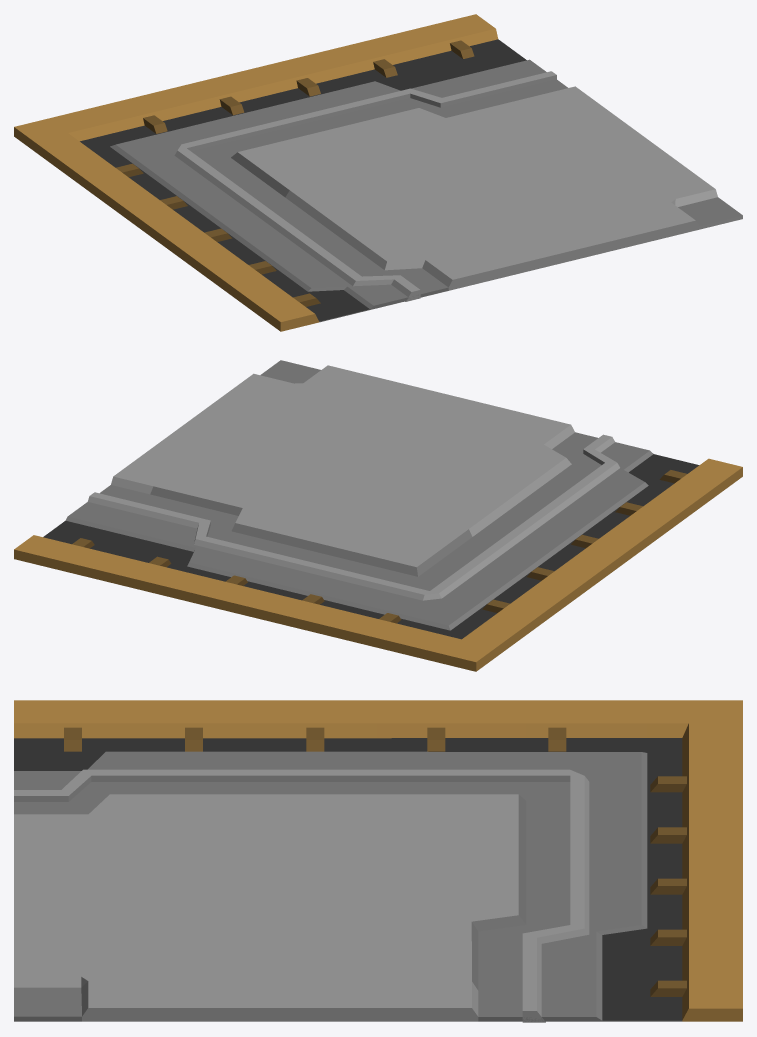
The model's file is FloorTile_Corner.glb.
3 views of the same model, one above another, from view 1: azimuth 30°, elevation 25°; view 2: azimuth 150°, elevation 25°; view 3: azimuth 270°, elevation 25° (orthographic). The views are drawn at different scales.
Visible parts, largest first — view 1: FloorTile_Corner_Plane.250; view 2: FloorTile_Corner_Plane.250; view 3: FloorTile_Corner_Plane.250.
Part boxes in pixels (box(x1,y1,x2,y2)): FloorTile_Corner_Plane.250: box(14, 14, 742, 331); FloorTile_Corner_Plane.250: box(14, 360, 742, 671); FloorTile_Corner_Plane.250: box(14, 700, 742, 1022).
Bounding box in the file's own units: 2 × 0.0615 × 2.
